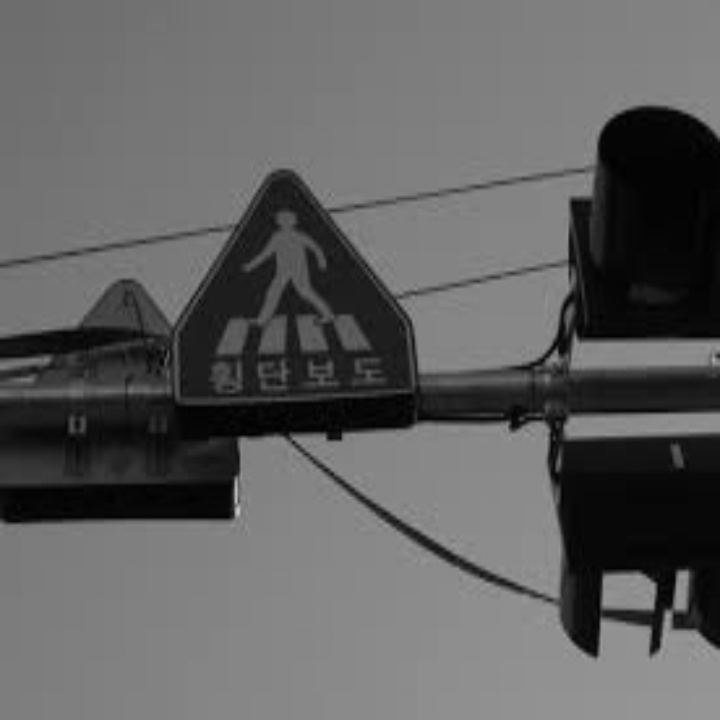cross: (188, 180, 389, 362)
